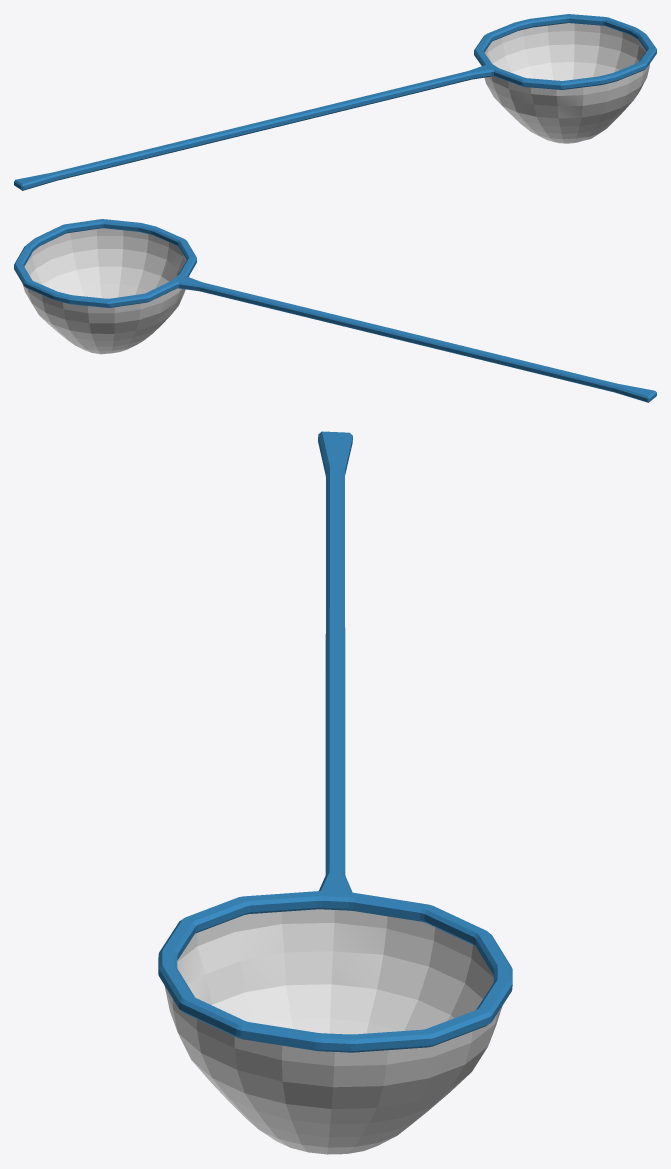
Rendered from NET2.fbx.
3 views of the same model, one above another, from view 1: azimuth 30°, elevation 25°; view 2: azimuth 150°, elevation 25°; view 3: azimuth 270°, elevation 25° (orthographic). The views are drawn at different scales.
Parts seen in each view (by area): view 1: polySurface3; view 2: polySurface3; view 3: polySurface3.
Boxes of the visible parts, left/top/right/bottom form: polySurface3: left=14, top=14, right=656, bottom=190; polySurface3: left=14, top=219, right=656, bottom=402; polySurface3: left=158, top=431, right=512, bottom=1154.
Bounding box in the file's own units: 1.14 × 0.1615 × 0.2799.
